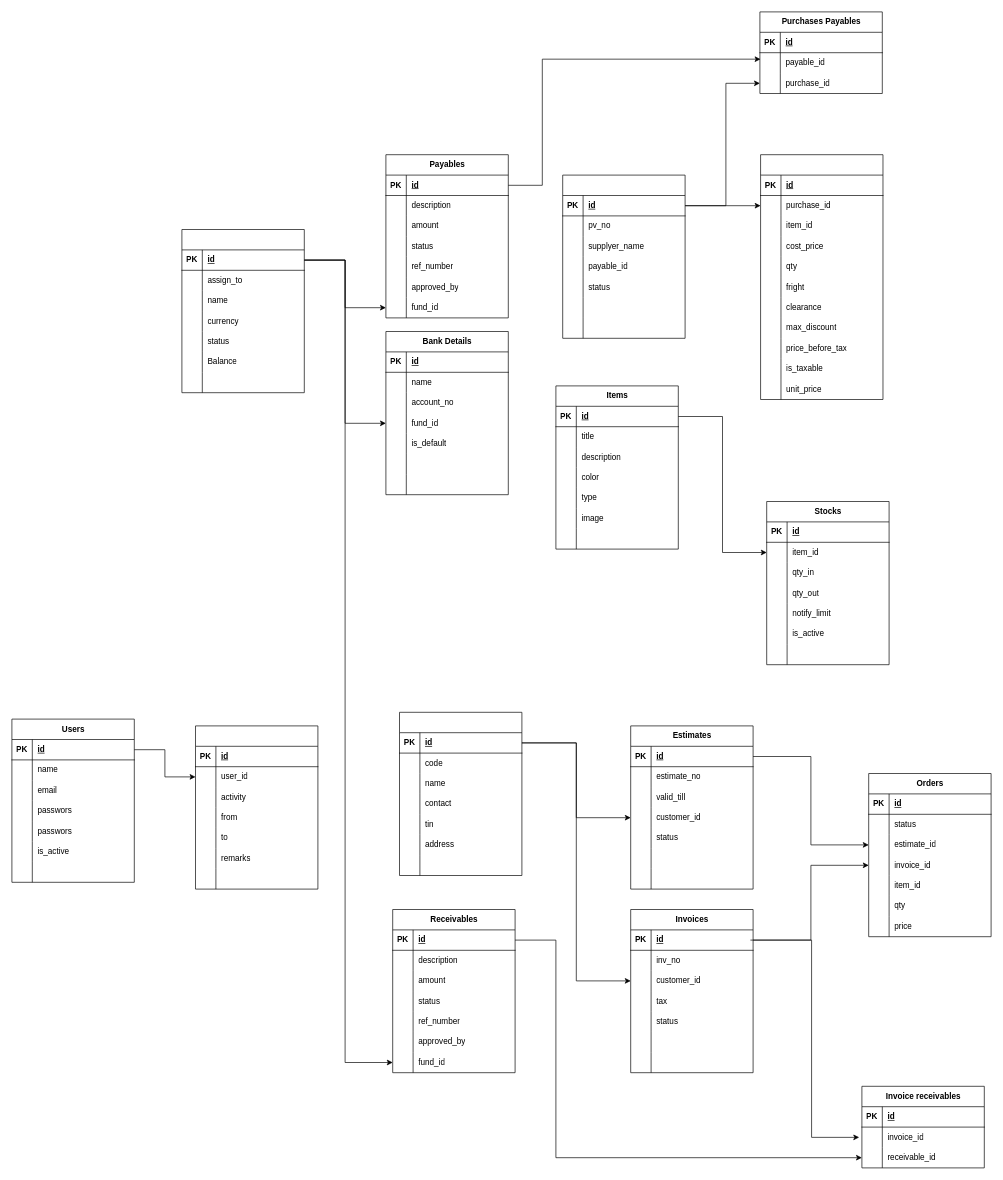
Some shapes in this 1003 by 1180 pixel diagram are drawn without their labels. The box of each missing label's shape, as (x1, y1, x2, y2) in pixels:
Customers: (399, 712, 522, 876)
Funds: (181, 229, 304, 393)
Prices: (760, 154, 883, 400)
Purchases: (562, 174, 685, 338)
User Logs: (195, 725, 318, 889)
